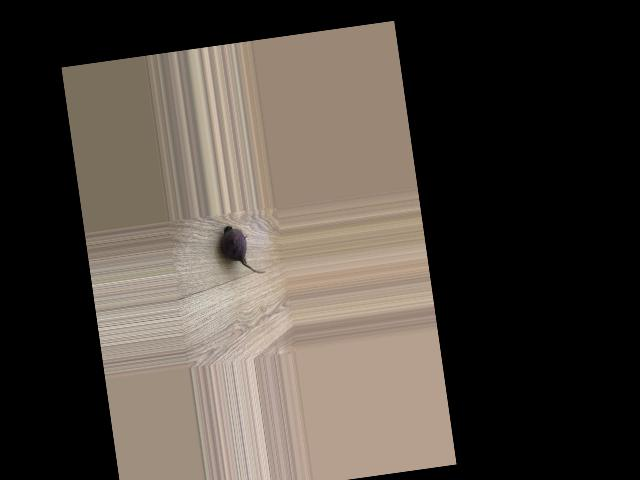beet: (219, 222, 265, 279)
